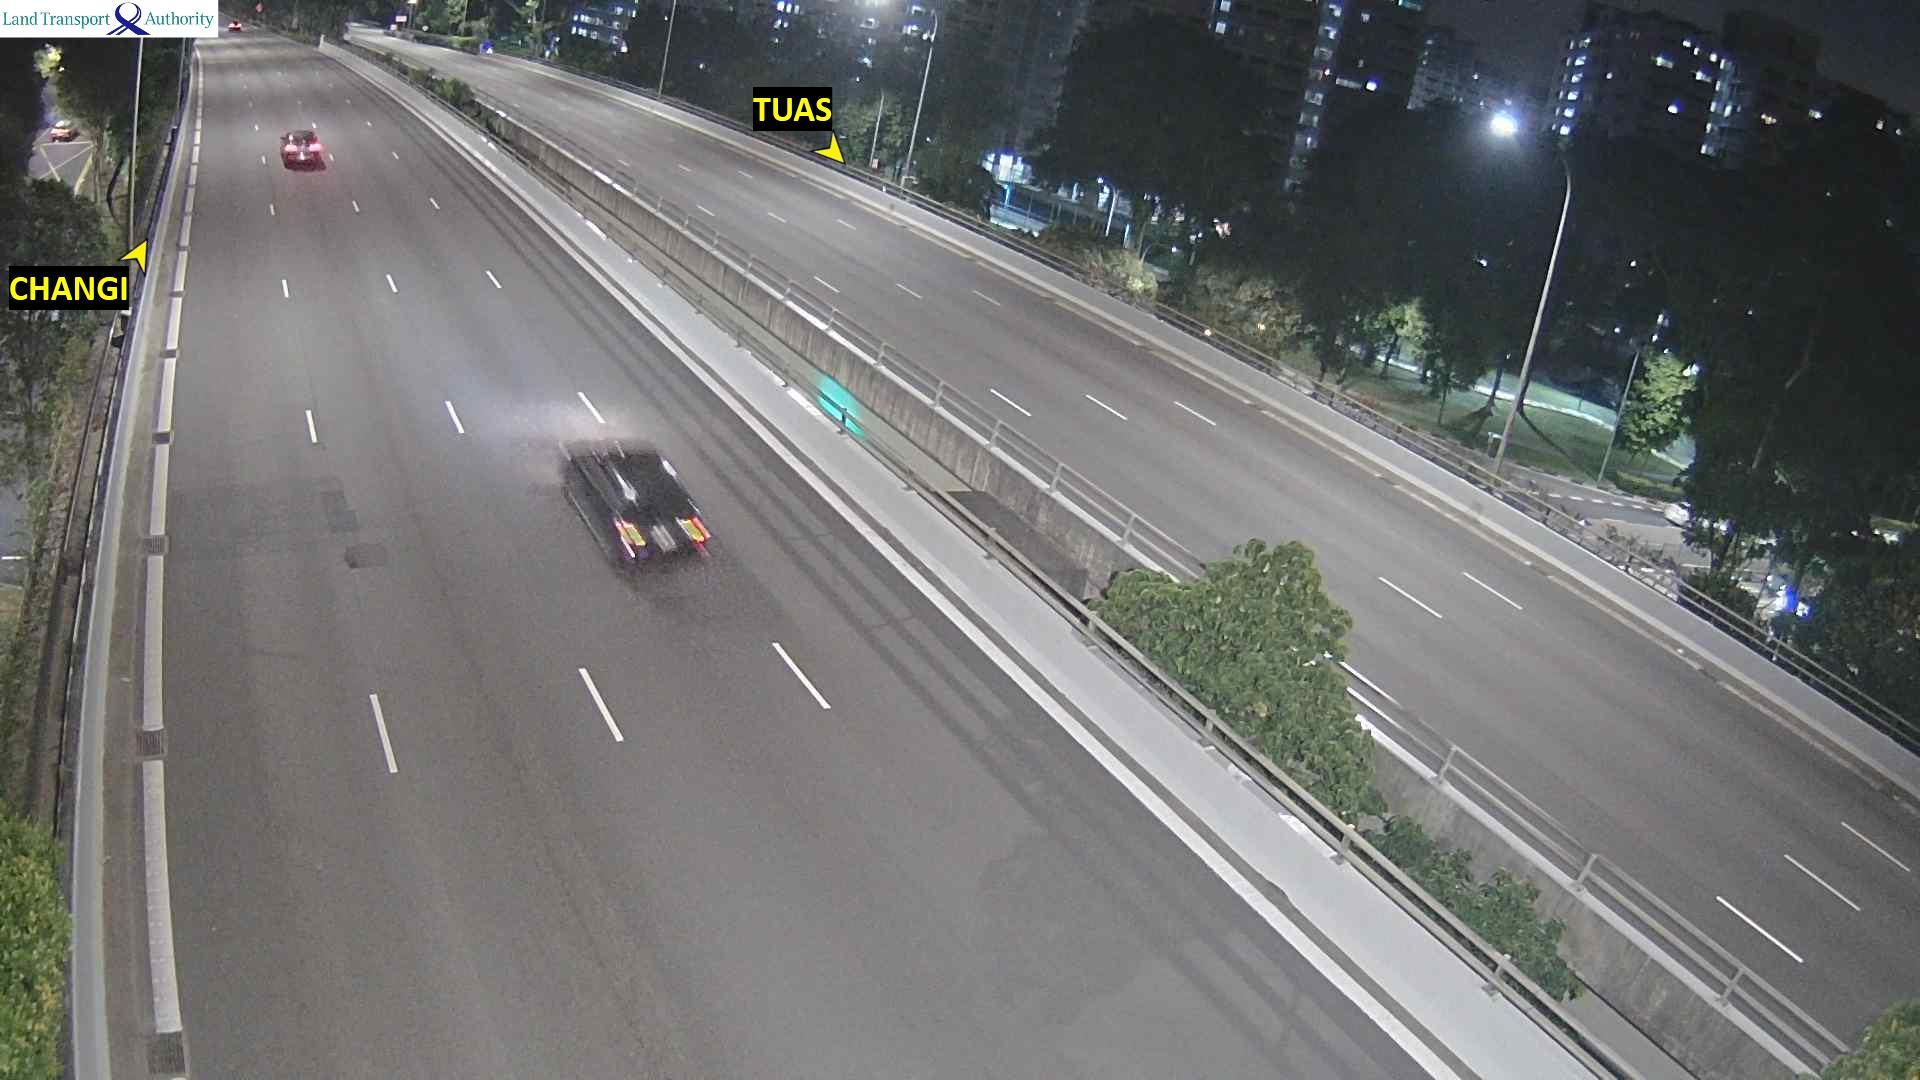cars: (556, 434, 713, 572), (278, 125, 326, 170), (1662, 498, 1693, 527), (49, 119, 76, 141), (225, 18, 241, 32)
